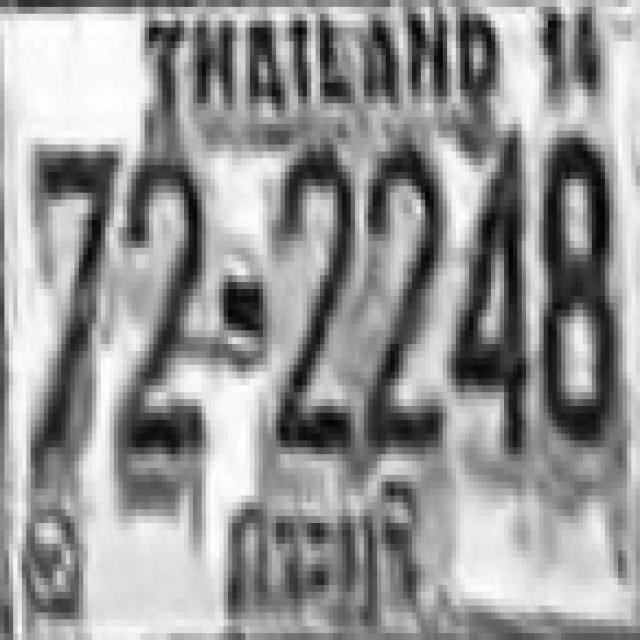2: (112, 144, 204, 448), (269, 144, 353, 448), (362, 138, 441, 447), (269, 141, 353, 423), (362, 134, 441, 416)
4: (447, 124, 526, 454)
7: (27, 138, 118, 468)
8: (539, 127, 614, 437)
SaraBuri: (219, 473, 430, 628)
